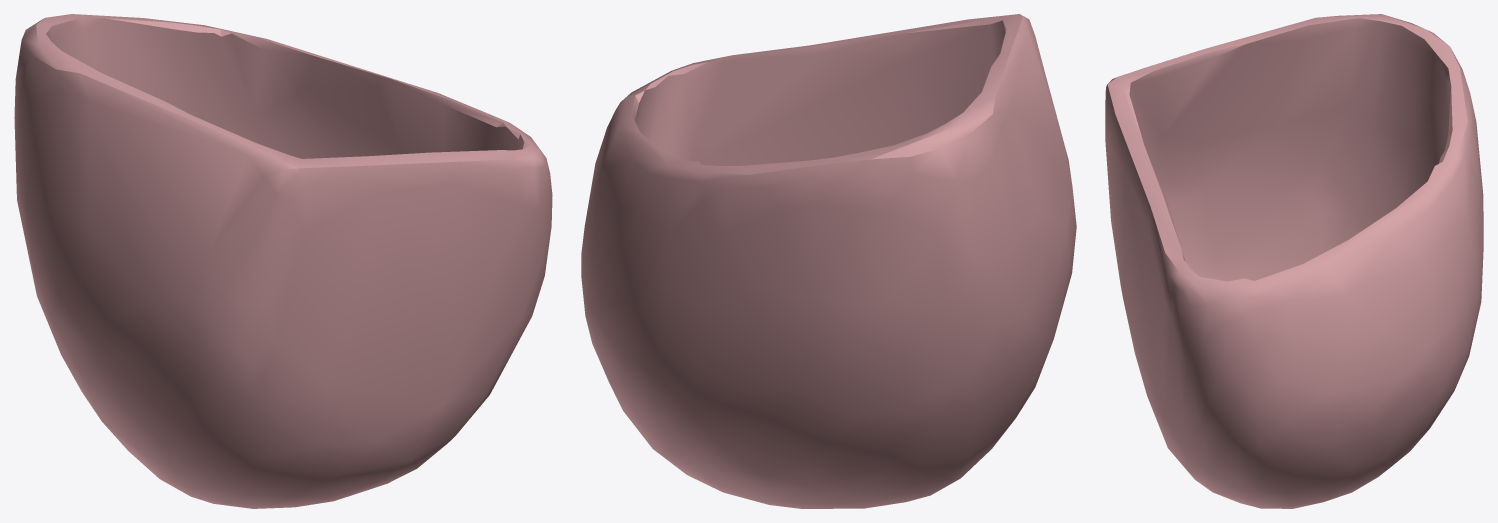
The model's file is fma7250_fj2427.glb.
The picture shows the model from 3 angles, left to right: view 1: azimuth 30°, elevation 25°; view 2: azimuth 150°, elevation 25°; view 3: azimuth 270°, elevation 25°; orthographic projection. The views are drawn at different scales.
Parts seen in each view (by area): view 1: FMA7250_FJ2427; view 2: FMA7250_FJ2427; view 3: FMA7250_FJ2427.
Part boxes in pixels (x1=…): FMA7250_FJ2427: x1=14, y1=14, x2=552, y2=508; FMA7250_FJ2427: x1=581, y1=14, x2=1076, y2=508; FMA7250_FJ2427: x1=1105, y1=14, x2=1483, y2=508.
Bounding box in the file's own units: 0.017 × 0.0164 × 0.0146.
